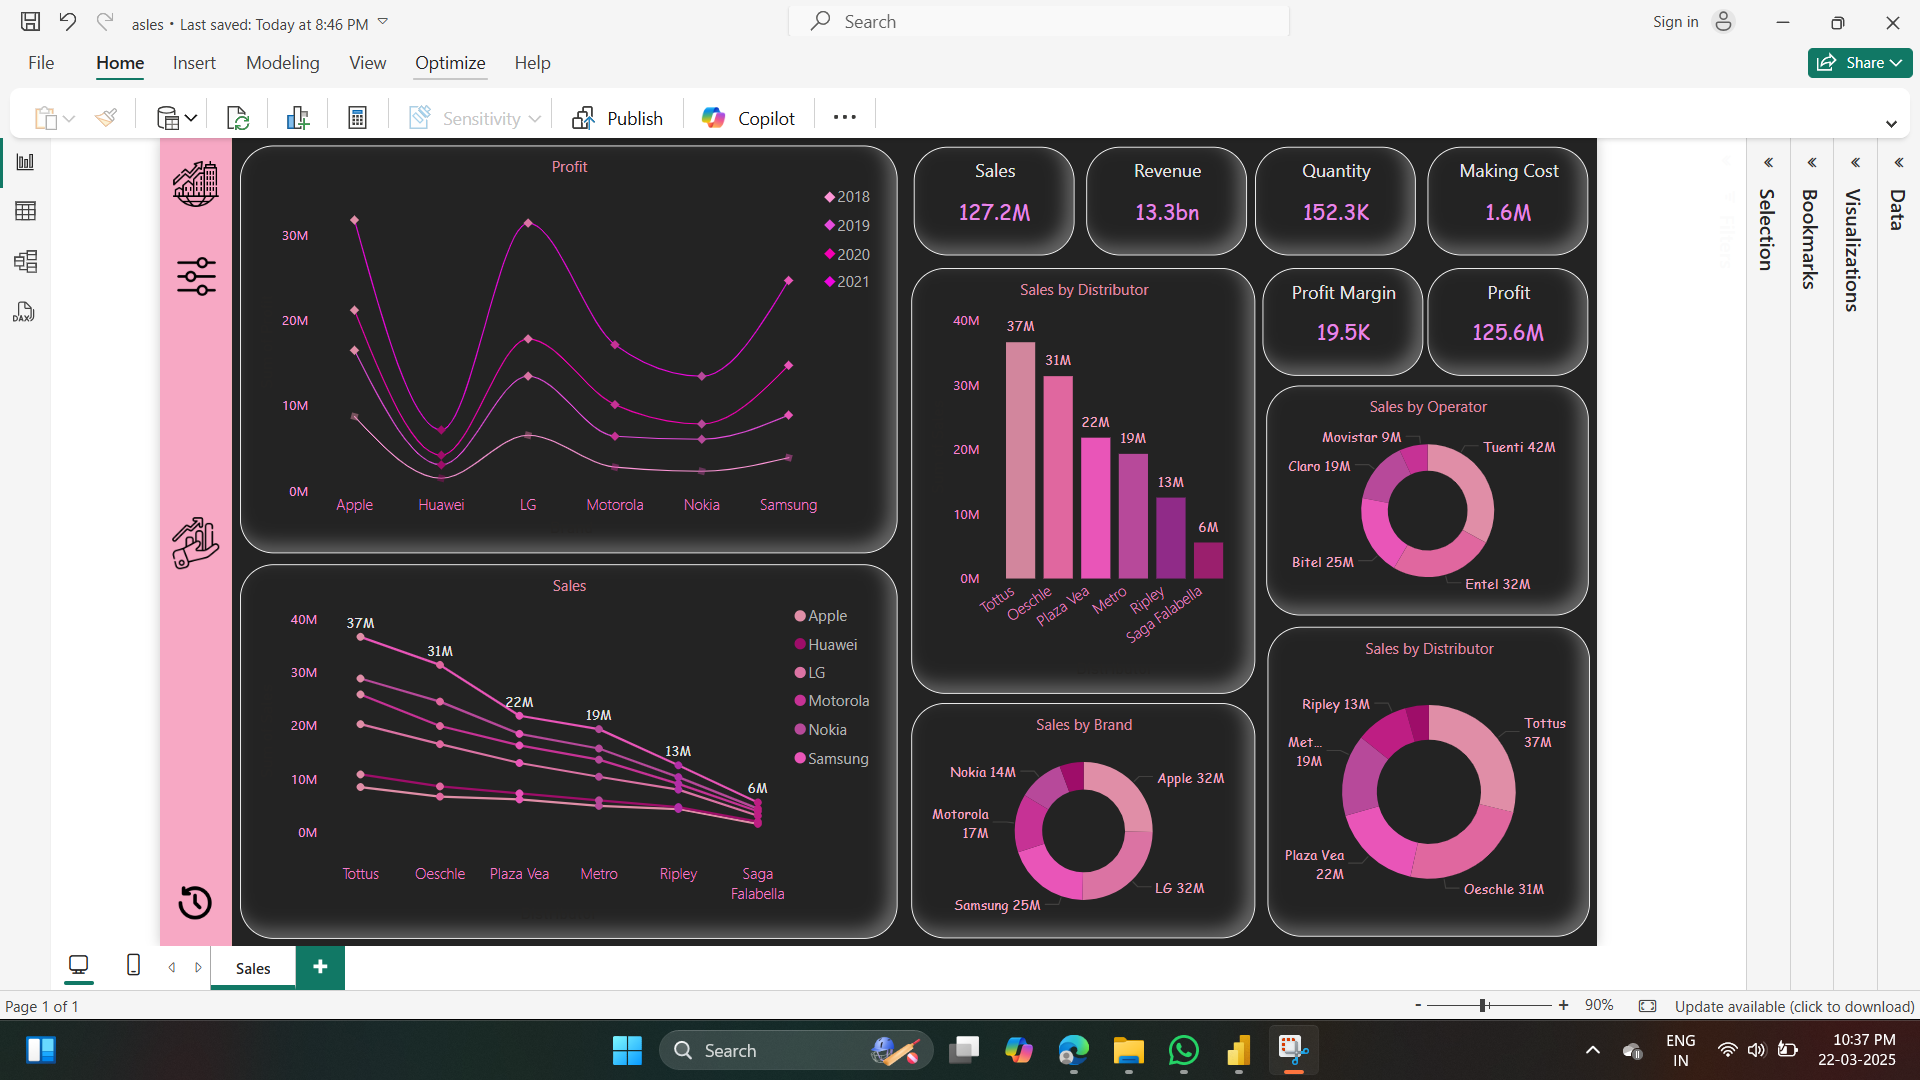

What the dashboard file says about the page in this screenshot:
{"tool":"powerbi","page":{"name":"Sales","canvas":[1280,720],"ordinal":0},"visuals":[{"type":"shape","box":[0,0,63.8,720.2],"z":0},{"type":"stackedAreaChart","title":"Sales","fields":{"Category":["Phone Sales.Distributor"],"Y":["Sum(Phone Sales.Sales)"],"Series":["Phone Sales.Brand"]},"box":[71.2,379.1,585.3,333.7],"z":0,"group":"g1"},{"type":"stackedAreaChart","title":"Profit","fields":{"Category":["Phone Sales.Brand"],"Series":["Date_Phones.Month & Year.Variation.Date Hierarchy.Year"],"Y":["Sum(Phone Sales.Profit)"]},"box":[71.2,6.1,585.3,363.2],"z":1000,"group":"g1"},{"type":"image","box":[4.9,656.4,54,49.1],"z":1000},{"type":"image","box":[2.5,332.5,58.9,56.4],"z":2000},{"type":"image","box":[0,14.7,63.8,52.8],"z":3000},{"type":"donutChart","title":"Sales by Brand","fields":{"Category":["Phone Sales.Brand"],"Y":["Sum(Phone Sales.Sales)"]},"box":[668.7,503.1,306.8,209.8],"z":4000},{"type":"donutChart","title":"Sales by Distributor","fields":{"Category":["Phone Sales.Distributor"],"Y":["Sum(Phone Sales.Sales)"]},"box":[986.5,435.6,287.1,276.1],"z":5000},{"type":"donutChart","title":"Sales by Operator","fields":{"Category":["Phone Sales.Operator"],"Y":["Sum(Phone Sales.Sales)"]},"box":[985.3,220.9,287.1,204.9],"z":6000},{"type":"image","box":[3.7,101.8,58.9,44.2],"z":7000},{"type":"columnChart","title":"Sales by Distributor","fields":{"Category":["Phone Sales.Distributor"],"Y":["Sum(Phone Sales.Sales)"]},"box":[668.7,115.3,306.8,379.1],"z":8000},{"type":"card","title":"Sales","fields":{"Values":["Sum(Phone Sales.Sales)"]},"box":[671.2,7.4,143.6,96.9],"z":9000},{"type":"card","title":"Revenue","fields":{"Values":["Sum(Phone Sales.Revenue)"]},"box":[824.5,7.4,143.6,96.9],"z":10000},{"type":"card","title":"Quantity","fields":{"Values":["Sum(Phone Sales.Quantity)"]},"box":[975.5,7.4,143.6,96.9],"z":11000},{"type":"card","title":"Profit","fields":{"Values":["Sum(Phone Sales.Profit)"]},"box":[1128.8,115.3,143.6,95.7],"z":12000},{"type":"card","title":"Making Cost","fields":{"Values":["Sum(Phone Sales.Manufacturing Cost)"]},"box":[1128.8,7.4,143.6,96.9],"z":13000},{"type":"card","title":"Profit Margin","fields":{"Values":["Sum(Phone Sales.Profit Margin)"]},"box":[981.6,115.3,143.6,95.7],"z":14000},{"type":"group","id":"g1","title":"Visuals","box":[71.2,6.1,585.3,706.8],"z":16000}]}

Visuals, with their boxes on the page's 1280x720 design canvas (x1, y1, x2, y2). These are canvas units, not pixel positions in the 1920x1080 screenshot, which may show the page scaled, cropped or inside an application window:
shape: x1=0, y1=0, x2=64, y2=720
"Sales" stackedAreaChart: x1=71, y1=379, x2=656, y2=713
"Profit" stackedAreaChart: x1=71, y1=6, x2=656, y2=369
image: x1=5, y1=656, x2=59, y2=706
image: x1=2, y1=332, x2=61, y2=389
image: x1=0, y1=15, x2=64, y2=68
"Sales by Brand" donutChart: x1=669, y1=503, x2=976, y2=713
"Sales by Distributor" donutChart: x1=986, y1=436, x2=1274, y2=712
"Sales by Operator" donutChart: x1=985, y1=221, x2=1272, y2=426
image: x1=4, y1=102, x2=63, y2=146
"Sales by Distributor" columnChart: x1=669, y1=115, x2=976, y2=494
"Sales" card: x1=671, y1=7, x2=815, y2=104
"Revenue" card: x1=824, y1=7, x2=968, y2=104
"Quantity" card: x1=976, y1=7, x2=1119, y2=104
"Profit" card: x1=1129, y1=115, x2=1272, y2=211
"Making Cost" card: x1=1129, y1=7, x2=1272, y2=104
"Profit Margin" card: x1=982, y1=115, x2=1125, y2=211
"Visuals" group: x1=71, y1=6, x2=656, y2=713
